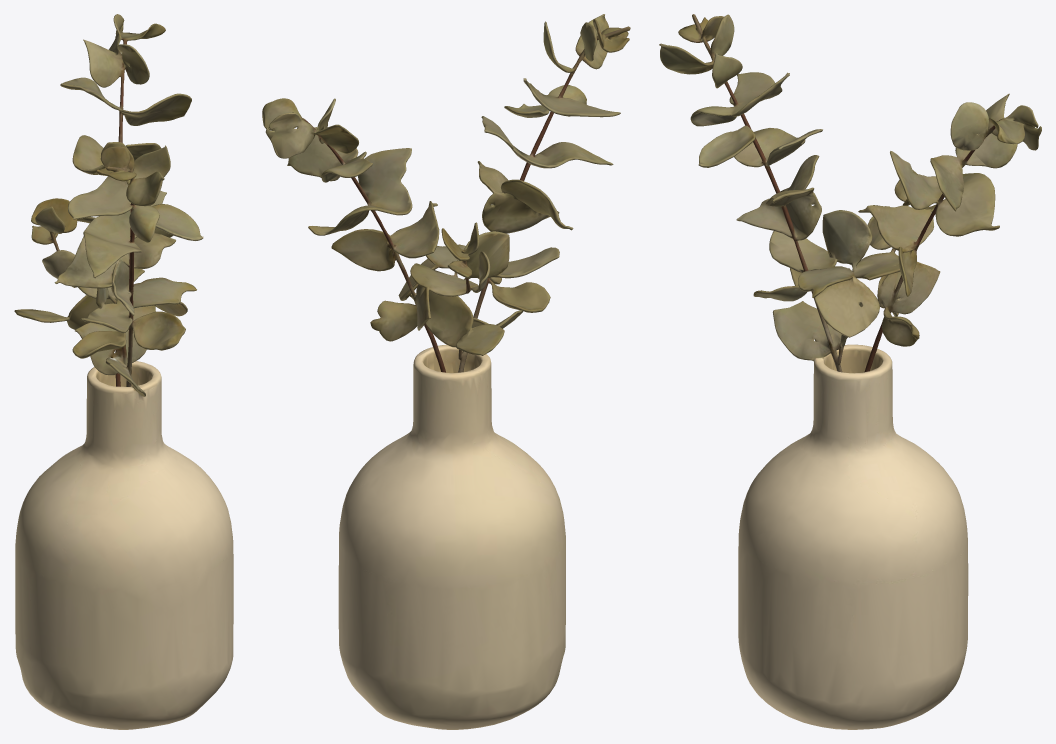
File: vase.glb
The picture shows the model from 3 angles, left to right: view 1: azimuth 30°, elevation 25°; view 2: azimuth 150°, elevation 25°; view 3: azimuth 270°, elevation 25°; orthographic projection. The views are drawn at different scales.
Visible parts, largest first — view 1: tripo_node_65537868-8c40-48e3-9b85-f48f73067d8a; view 2: tripo_node_65537868-8c40-48e3-9b85-f48f73067d8a; view 3: tripo_node_65537868-8c40-48e3-9b85-f48f73067d8a.
Part boxes in pixels (left/top/right/bottom): tripo_node_65537868-8c40-48e3-9b85-f48f73067d8a: left=14, top=14, right=233, bottom=729; tripo_node_65537868-8c40-48e3-9b85-f48f73067d8a: left=262, top=14, right=630, bottom=729; tripo_node_65537868-8c40-48e3-9b85-f48f73067d8a: left=659, top=14, right=1041, bottom=729.
Bounding box in the file's own units: 0.3607 × 0.9798 × 0.5265.
1 material, 1 textured.
